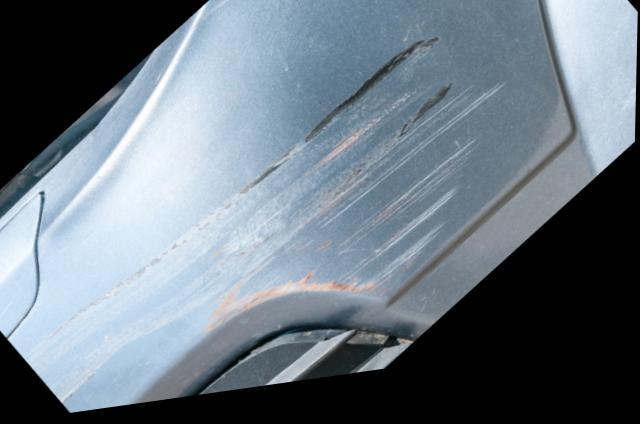scratch: (25, 48, 504, 408), (194, 0, 239, 31)
